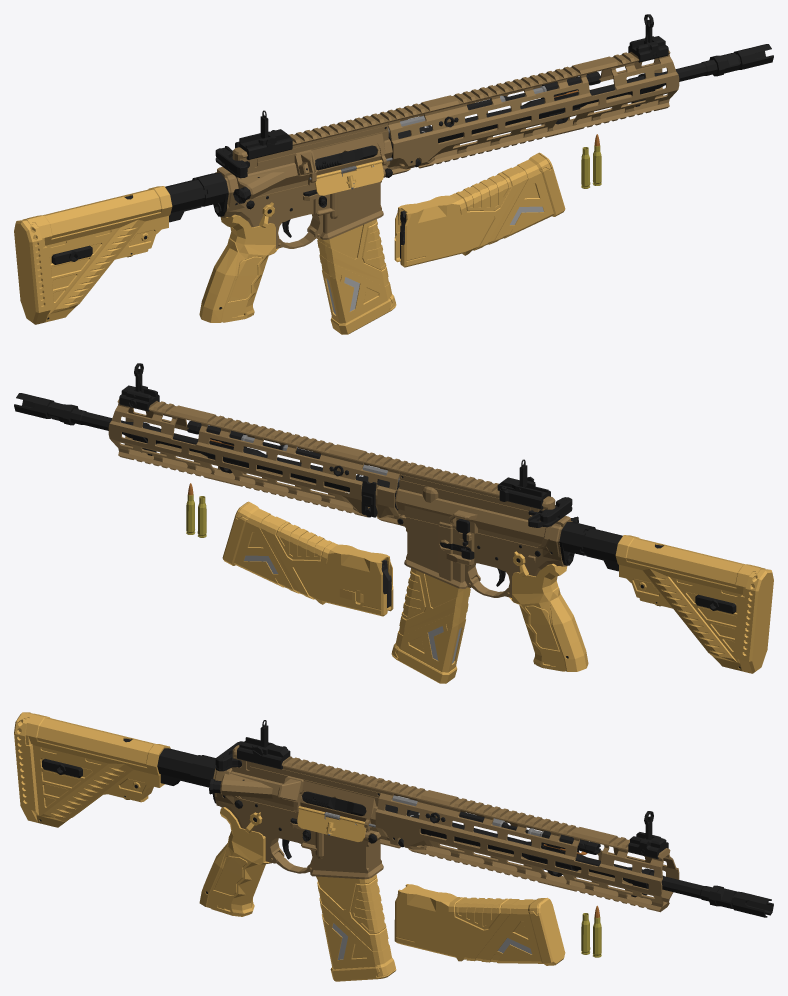
File: gun.glb
3 views of the same model, one above another, from view 1: azimuth 30°, elevation 25°; view 2: azimuth 150°, elevation 25°; view 3: azimuth 330°, elevation 25° (orthographic).
Parts seen in each view (by area): view 1: g95 handguard_13, g95 stock_14, ar15 30rnd mag empty (hk)_16, g95 lower_4, g95 upper_0, ar15 30rnd mag (hk)_17, g95 grip_15, g95 16.5in barrel_9, g95 iron sights_18, g95 dust cover_5, g95 flash hider_12, g95 bolt_7 (+1 smaller); view 2: g95 handguard_13, g95 stock_14, ar15 30rnd mag empty (hk)_16, g95 lower_4, g95 upper_0, ar15 30rnd mag (hk)_17, g95 grip_15, g95 16.5in barrel_9, g95 iron sights_18, g95 flash hider_12, g95 charging handle_6; view 3: g95 handguard_13, g95 stock_14, ar15 30rnd mag empty (hk)_16, g95 lower_4, g95 upper_0, ar15 30rnd mag (hk)_17, g95 grip_15, g95 16.5in barrel_9, g95 iron sights_18, g95 dust cover_5, g95 flash hider_12, g95 bolt_7.
Boxes of the visible parts, <box> form: g95 handguard_13: <box>379,50,679,175</box>; g95 stock_14: <box>14,186,172,324</box>; ar15 30rnd mag empty (hk)_16: <box>394,152,565,267</box>; g95 lower_4: <box>124,166,392,248</box>; g95 upper_0: <box>232,113,392,203</box>; ar15 30rnd mag (hk)_17: <box>317,219,396,334</box>; g95 grip_15: <box>199,214,278,322</box>; g95 16.5in barrel_9: <box>388,59,717,161</box>; g95 iron sights_18: <box>235,14,668,159</box>; g95 dust cover_5: <box>309,157,392,195</box>; g95 flash hider_12: <box>709,44,773,76</box>; g95 bolt_7: <box>315,145,377,170</box>; g95 handguard_13: <box>108,399,408,524</box>; g95 stock_14: <box>615,535,773,673</box>; ar15 30rnd mag empty (hk)_16: <box>222,501,393,616</box>; g95 lower_4: <box>397,515,663,597</box>; g95 upper_0: <box>395,462,578,547</box>; ar15 30rnd mag (hk)_17: <box>391,568,470,683</box>; g95 grip_15: <box>509,563,588,671</box>; g95 16.5in barrel_9: <box>70,408,399,510</box>; g95 iron sights_18: <box>119,363,550,509</box>; g95 flash hider_12: <box>14,393,78,425</box>; g95 charging handle_6: <box>528,497,572,527</box>; g95 handguard_13: <box>375,780,679,912</box>; g95 stock_14: <box>14,712,170,827</box>; ar15 30rnd mag empty (hk)_16: <box>394,884,565,965</box>; g95 lower_4: <box>123,738,383,879</box>; g95 upper_0: <box>209,745,386,839</box>; ar15 30rnd mag (hk)_17: <box>316,874,396,981</box>; g95 grip_15: <box>199,807,271,916</box>; g95 16.5in barrel_9: <box>385,795,712,901</box>; g95 iron sights_18: <box>237,720,668,859</box>; g95 dust cover_5: <box>297,806,375,841</box>; g95 flash hider_12: <box>708,885,773,917</box>; g95 bolt_7: <box>302,791,366,815</box>.
Size of the model in its own units: 8.96 by 2.77 by 0.7315.
